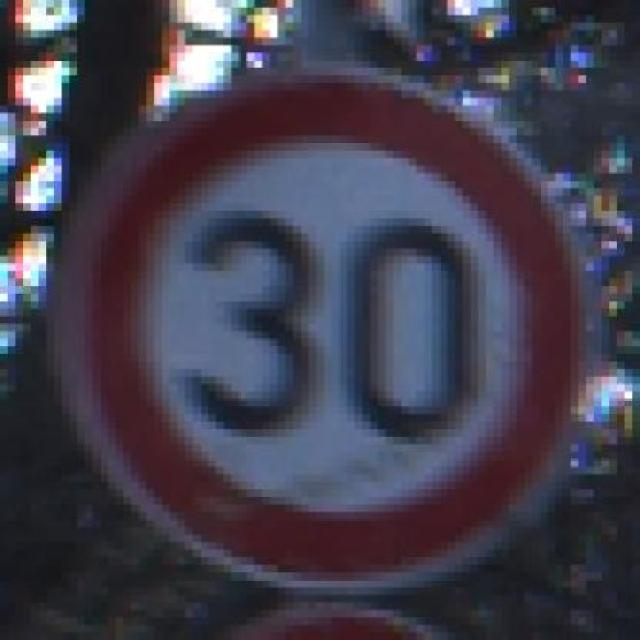Speed Limit 30 KMPh: (54, 38, 617, 602)
